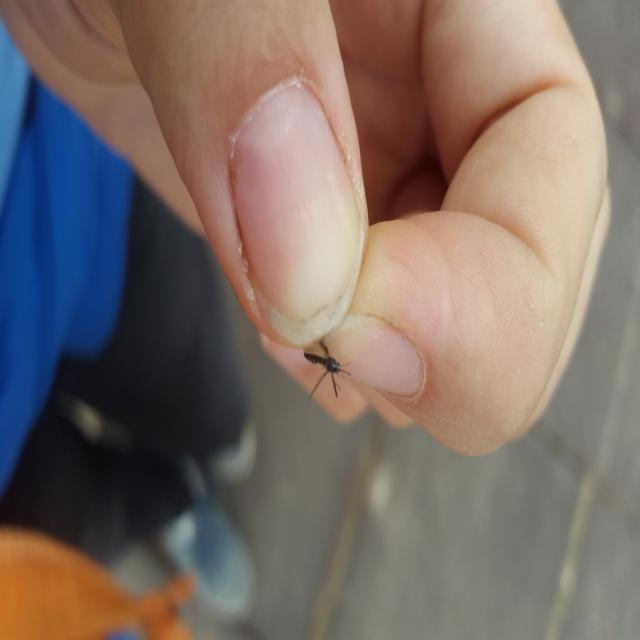albopictus: (300, 325, 355, 401)
